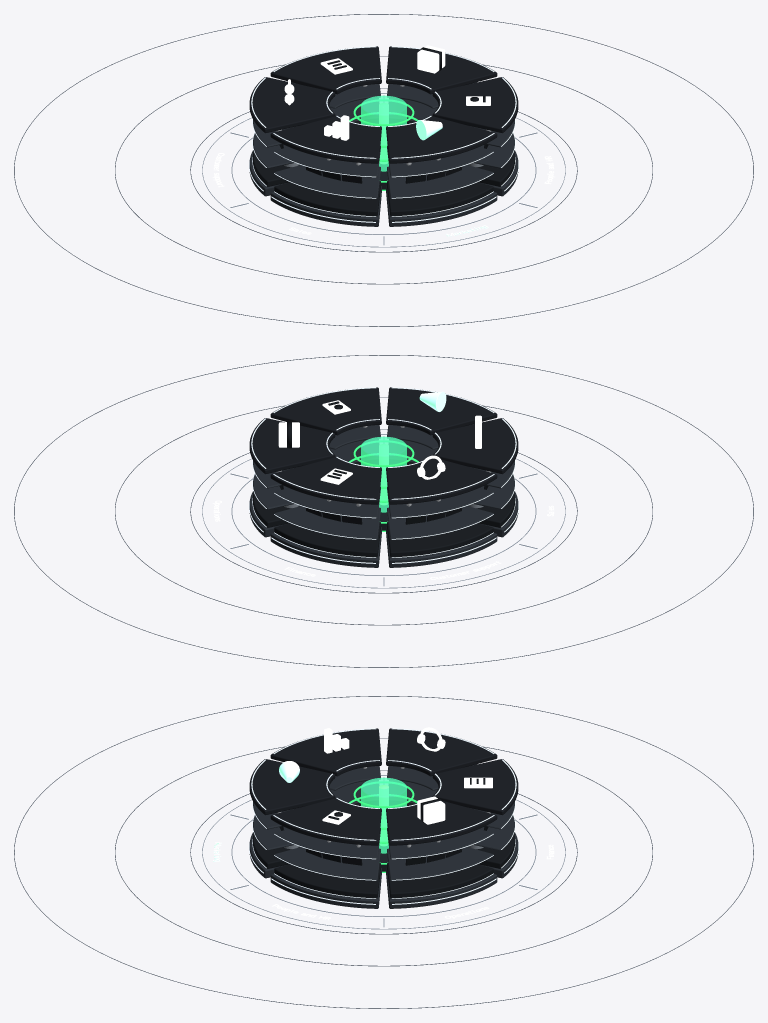
Rendered from engine.glb.
3 views of the same model, one above another, from view 1: azimuth 30°, elevation 25°; view 2: azimuth 150°, elevation 25°; view 3: azimuth 270°, elevation 25° (orthographic).
Parts seen in each view (by area): view 1: L4, L2, L1, L3, FloorRings, L0, Dial, Column; view 2: L4, L2, L1, L3, FloorRings, L0, Dial, Column; view 3: L4, L2, L1, L3, FloorRings, L0, Dial, Column.
Boxes of the visible parts, x1,y1,x2,y2 form: L4: (249,45,518,163); L2: (252,98,515,198); L1: (252,119,515,216); L3: (252,82,515,177); FloorRings: (14,14,753,326); L0: (249,150,518,226); Dial: (202,93,565,247); Column: (349,95,417,171); L4: (249,387,518,504); L2: (252,439,515,539); L1: (252,460,515,557); L3: (252,423,515,518); FloorRings: (14,355,753,667); L0: (249,491,518,567); Dial: (202,434,565,588); Column: (349,436,418,512); L4: (249,727,518,845); L2: (252,780,515,880); L1: (252,801,515,898); L3: (252,764,515,859); FloorRings: (14,696,753,1008); L0: (249,832,518,908); Dial: (202,775,565,929); Column: (349,777,417,853).
Size of the model in its own units: 17.61 by 2.38 by 17.61.
